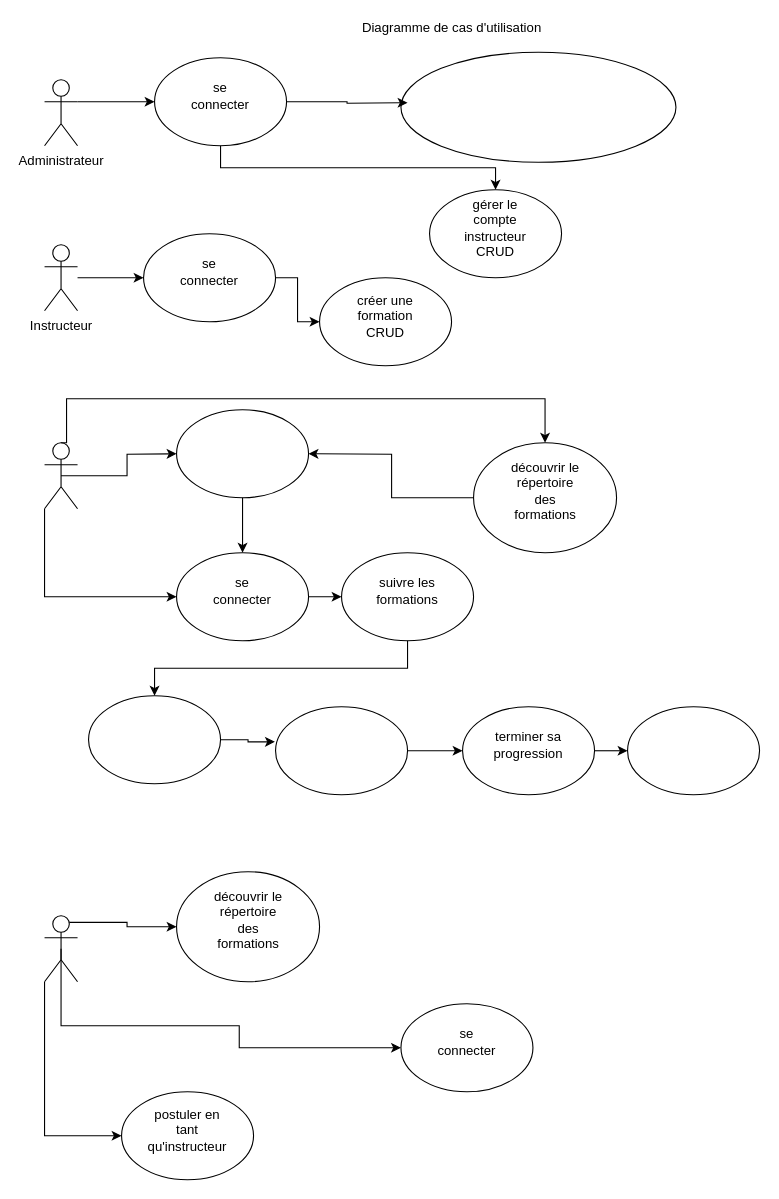
The diagram is 779 pixels wide and 1199 high, and some of its shapes have lost their labels. The shapes that lost their labels are listed below. From the top down, each one's centre as x and y in pixels, then its label:
At [538,106]: "valider la demande du viciteur pour devenir instructeur".
At [242,453]: "s'enregistrer".
At [60,475]: "Apprenant".
At [154,739]: "cliquer sur leçon terminée".
At [341,750]: "valider sa progression".
At [693,750]: "réaliser un quiz".
At [60,948]: "Visiteur".
